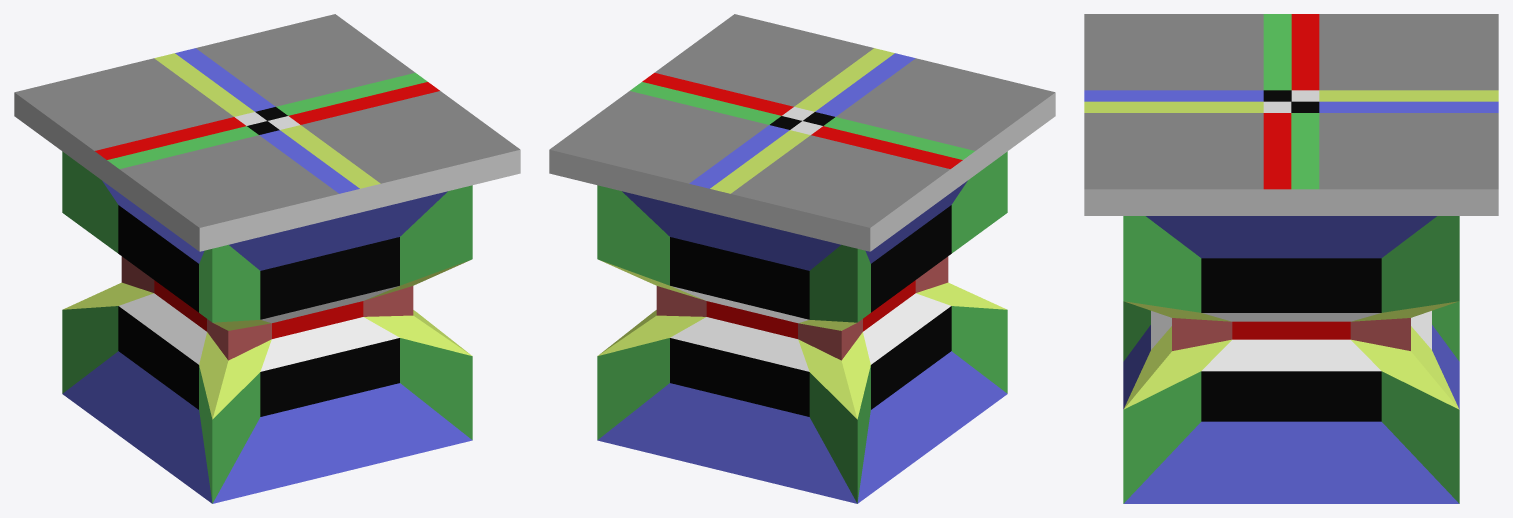
The model's file is SpaceBarOne.fbx.
The picture shows the model from 3 angles, left to right: view 1: azimuth 30°, elevation 25°; view 2: azimuth 150°, elevation 25°; view 3: azimuth 270°, elevation 25°; orthographic projection. The views are drawn at different scales.
Parts seen in each view (by area): view 1: pCube1; view 2: pCube1; view 3: pCube1.
Part boxes in pixels (bbox=[...]): pCube1: bbox=[14, 14, 520, 503]; pCube1: bbox=[549, 14, 1055, 503]; pCube1: bbox=[1084, 14, 1498, 503].
Bounding box in the file's own units: 1.23 × 1.09 × 1.23.
